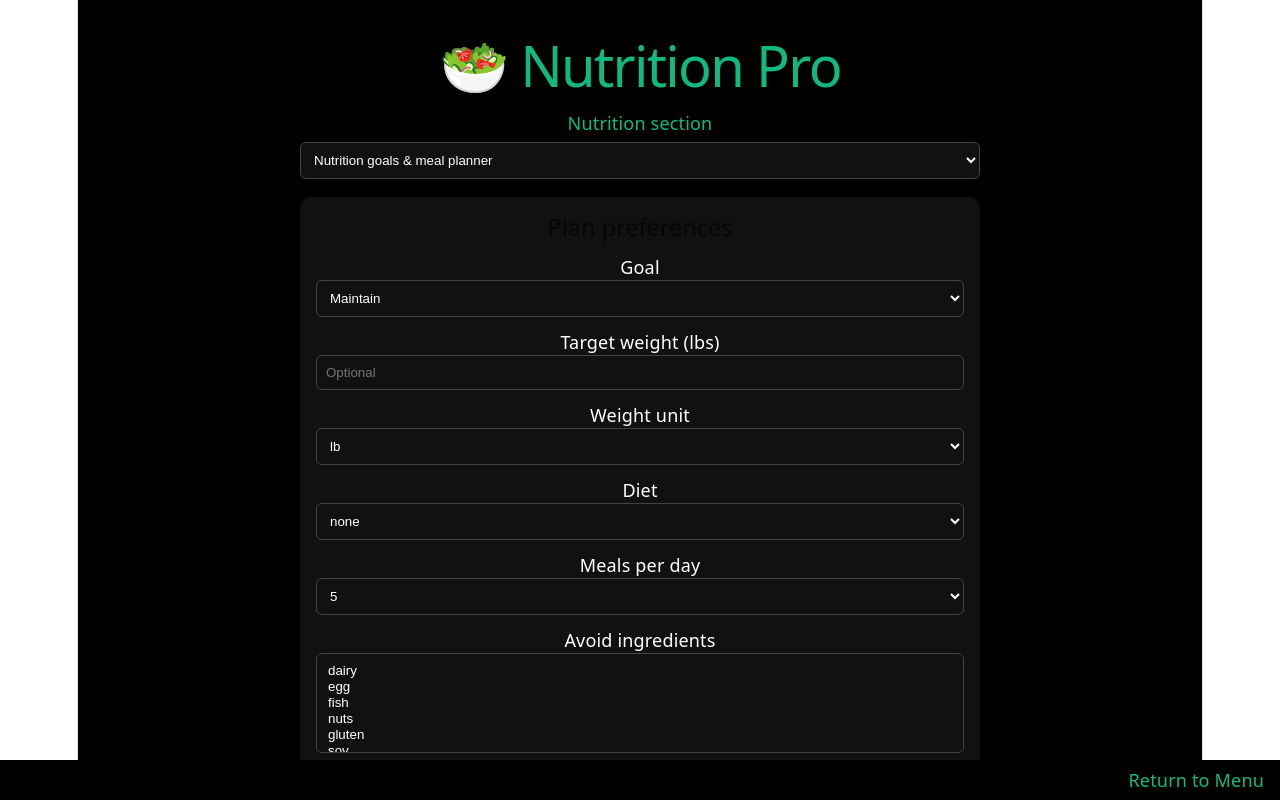
Test: FoodScanner › navigates from Nutrition Pro planner into the scanner without adding a separate menu page
Select "Scan & analyze food" in the dropdown labelled "Nutrition section" at [640, 161], box [300,142,980,179]
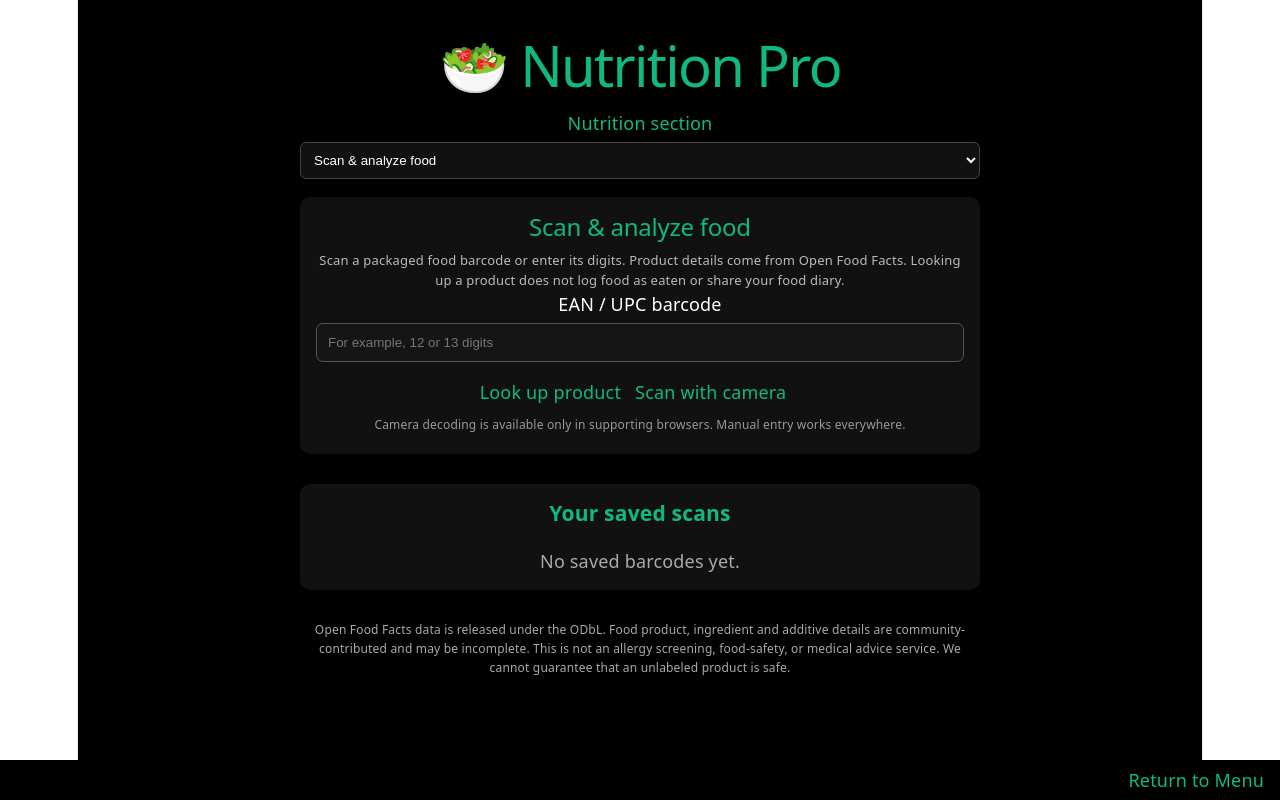
Expected: the heading "Scan & analyze food" is shown, [529,210,751,243]
Expected: the heading "Plan preferences" is gone
